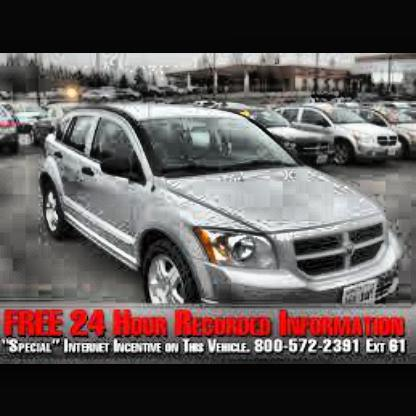Dodge Caliber Wagon 2012: (44, 107, 402, 309)
